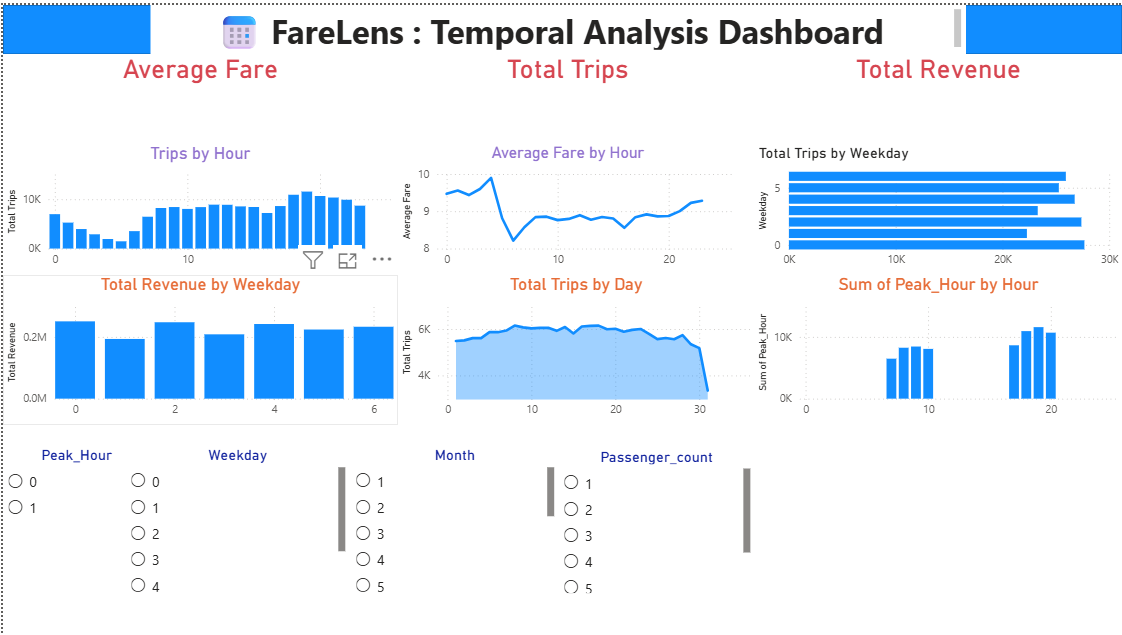

Layout of this report page (visuals, bound fields, positions):
{"tool":"powerbi","page":{"name":"Page 2","canvas":[1280,720],"ordinal":1},"visuals":[{"type":"kpi","fields":{"Indicator":["prediction_output.Total Revenue"]},"box":[859,56.3,421.3,50.8],"z":0},{"type":"kpi","fields":{"Indicator":["prediction_output.Total Trips"]},"box":[451.5,56.3,388.3,52.1],"z":1000},{"type":"kpi","fields":{"Indicator":["prediction_output.Average Fare"]},"box":[0,56.3,451.5,52.1],"z":2000},{"type":"textbox","box":[0,281,280,150],"z":3000},{"type":"shape","box":[0,0,1280.3,56.3],"z":4000},{"type":"textbox","box":[168.8,0,931.7,56.3],"z":5000},{"type":"clusteredColumnChart","title":"Trips by Hour","fields":{"Category":["prediction_output.Hour"],"Y":["prediction_output.Total Trips"]},"box":[0,158.5,451,150],"z":6000},{"type":"lineChart","title":"Average Fare by Hour","fields":{"Category":["prediction_output.Hour"],"Y":["prediction_output.Average Fare"]},"box":[451,159,388,150],"z":7000},{"type":"clusteredBarChart","fields":{"Category":["prediction_output.Weekday"],"Y":["prediction_output.Total Trips"]},"box":[859,159,421,150],"z":8000},{"type":"clusteredColumnChart","fields":{"Category":["prediction_output.Weekday"],"Y":["prediction_output.Total Revenue"]},"box":[0,308.7,451.5,171.5],"z":9000},{"type":"areaChart","fields":{"Category":["prediction_output.Day"],"Y":["prediction_output.Total Trips"]},"box":[451.5,308.7,407.5,171.5],"z":10000},{"type":"columnChart","fields":{"Category":["prediction_output.Hour"],"Y":["Sum(prediction_output.Peak_Hour)"]},"box":[859,308.7,421.3,171.5],"z":11000},{"type":"listSlicer","fields":{"Values":["prediction_output.Peak_Hour"]},"box":[0,505,168.8,171.5],"z":12000},{"type":"listSlicer","fields":{"Values":["prediction_output.Month"]},"box":[396.6,505,238.8,171.5],"z":13000},{"type":"listSlicer","fields":{"Values":["prediction_output.Weekday"]},"box":[140,505,256.6,171.5],"z":14000},{"type":"listSlicer","title":"Passenger_count","fields":{"Values":["prediction_output.passenger_count"]},"box":[636,505,223,172],"z":15000}]}

Visuals, with their boxes in screenshot pixels (x1, y1, x2, y2), scaled from the page's 1280x720 canvas onto the 1122x635 screenshot:
kpi - prediction_output.Total Revenue: bbox=[753, 50, 1121, 94]
kpi - prediction_output.Total Trips: bbox=[396, 50, 736, 96]
kpi - prediction_output.Average Fare: bbox=[0, 50, 396, 96]
textbox: bbox=[0, 248, 245, 380]
shape: bbox=[0, 0, 1121, 50]
textbox: bbox=[148, 0, 965, 50]
"Trips by Hour" clusteredColumnChart: bbox=[0, 140, 395, 272]
"Average Fare by Hour" lineChart: bbox=[395, 140, 735, 273]
clusteredBarChart - prediction_output.Weekday x prediction_output.Total Trips: bbox=[753, 140, 1121, 273]
clusteredColumnChart - prediction_output.Weekday x prediction_output.Total Revenue: bbox=[0, 272, 396, 424]
areaChart - prediction_output.Day x prediction_output.Total Trips: bbox=[396, 272, 753, 424]
columnChart - prediction_output.Hour x Sum(prediction_output.Peak_Hour): bbox=[753, 272, 1121, 424]
listSlicer - prediction_output.Peak_Hour: bbox=[0, 445, 148, 597]
listSlicer - prediction_output.Month: bbox=[348, 445, 557, 597]
listSlicer - prediction_output.Weekday: bbox=[123, 445, 348, 597]
"Passenger_count" listSlicer: bbox=[557, 445, 753, 597]
